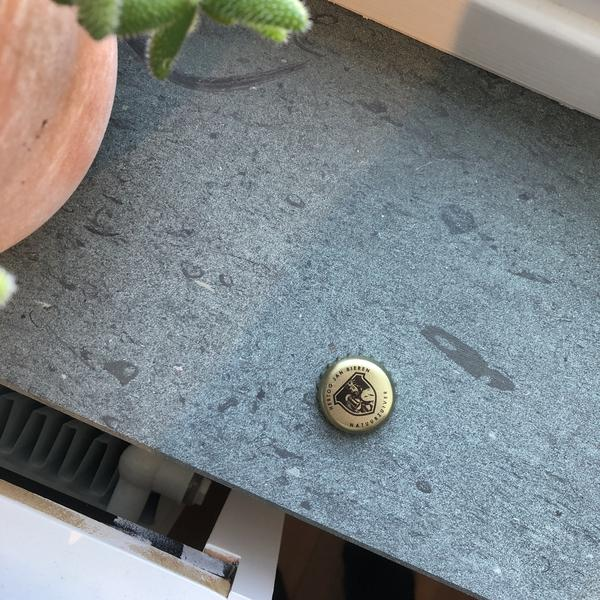hertogjan: (316, 354, 398, 439)
